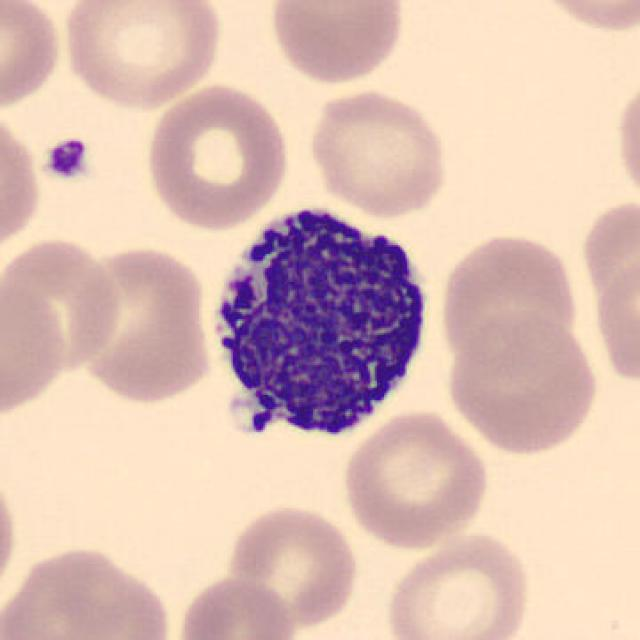Basophil: (196, 191, 444, 458)
Platelets: (42, 134, 92, 183)
RBC: (442, 307, 602, 458), (140, 79, 294, 233), (75, 242, 217, 406), (338, 407, 492, 552), (436, 229, 583, 369), (304, 86, 452, 220), (222, 499, 363, 635), (57, 0, 227, 111), (0, 233, 128, 379), (0, 541, 178, 640), (381, 527, 535, 640), (1, 244, 74, 428), (265, 0, 409, 86), (583, 215, 640, 392), (174, 573, 299, 640), (0, 0, 66, 115), (0, 104, 44, 262), (524, 0, 640, 37), (611, 70, 640, 213), (0, 455, 23, 615)
